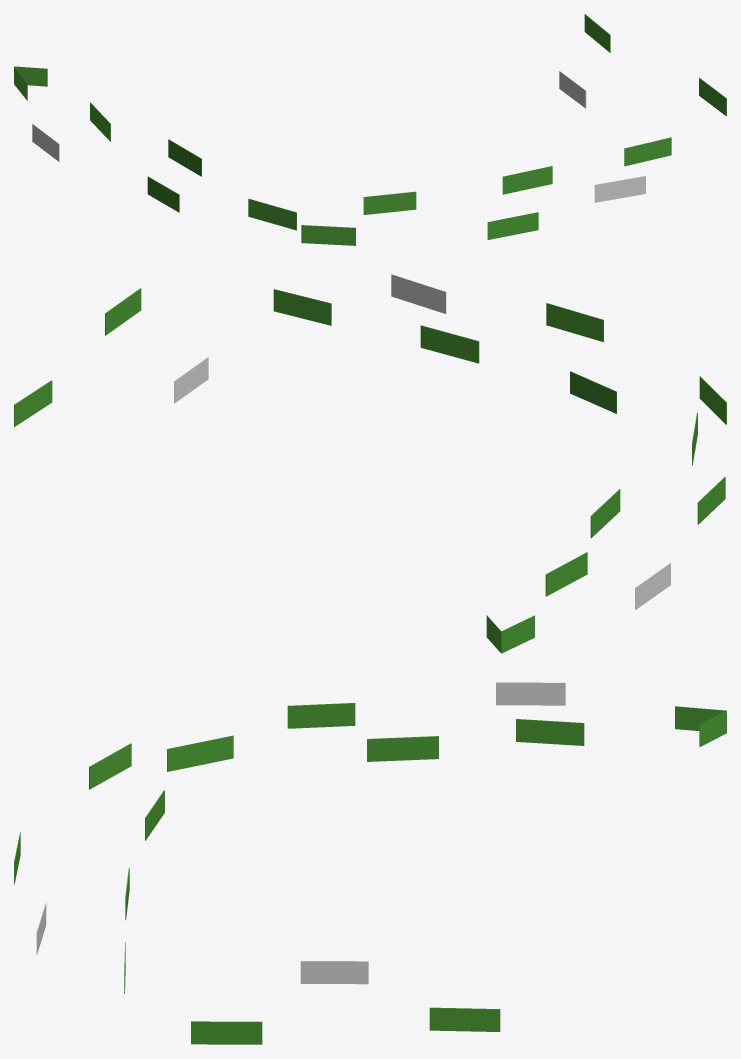
File: vivarium_glasses.fbx
3 views of the same model, one above another, from view 1: azimuth 30°, elevation 25°; view 2: azimuth 150°, elevation 25°; view 3: azimuth 270°, elevation 25° (orthographic). The views are drawn at different scales.
Visible parts, largest first — view 1: bool box.027, bool box.019, bool box.015, bool box.016, bool box.017, bool box.020, bool box.018, bool box.026, bool box.023, bool box.021, bool box.029, bool box.024 (+3 smaller); view 2: bool box.017, bool box.018, bool box.016, bool box.015, bool box.026, bool box.019, bool box.022, bool box.025, bool box.024, bool box.028, bool box.029, bool box.023 (+2 smaller); view 3: bool box.024, bool box.023, bool box.025, bool box.028, bool box.022, bool box.021, bool box.029, bool box.020, bool box.026, bool box.027.
Part boxes in pixels (x1,y1,x2,y2): bool box.027: (301, 225, 355, 245); bool box.019: (363, 191, 416, 214); bool box.015: (594, 176, 645, 202); bool box.016: (487, 212, 538, 239); bool box.017: (502, 166, 552, 194); bool box.020: (248, 198, 296, 230); bool box.018: (624, 137, 671, 166); bool box.026: (14, 66, 47, 100); bool box.023: (168, 139, 201, 176); bool box.021: (147, 176, 179, 212); bool box.029: (559, 71, 586, 108); bool box.024: (699, 77, 726, 116); bool box.017: (420, 325, 479, 363); bool box.018: (273, 289, 331, 325); bool box.016: (546, 303, 603, 341); bool box.015: (391, 274, 446, 313); bool box.026: (486, 615, 534, 653); bool box.019: (570, 371, 616, 413); bool box.022: (545, 552, 587, 596); bool box.025: (14, 380, 52, 426); bool box.024: (105, 288, 141, 335); bool box.028: (635, 563, 670, 609); bool box.029: (174, 357, 208, 403); bool box.023: (590, 489, 620, 538); bool box.024: (191, 1021, 262, 1044); bool box.023: (367, 736, 438, 761); bool box.025: (429, 1007, 500, 1031); bool box.028: (496, 682, 565, 705); bool box.022: (516, 719, 584, 745); bool box.021: (287, 703, 355, 728); bool box.029: (300, 961, 368, 984); bool box.020: (167, 735, 233, 771); bool box.026: (675, 706, 726, 747); bool box.027: (89, 743, 131, 789).
Size of the model in its own units: 13707 by 459 by 12149.
